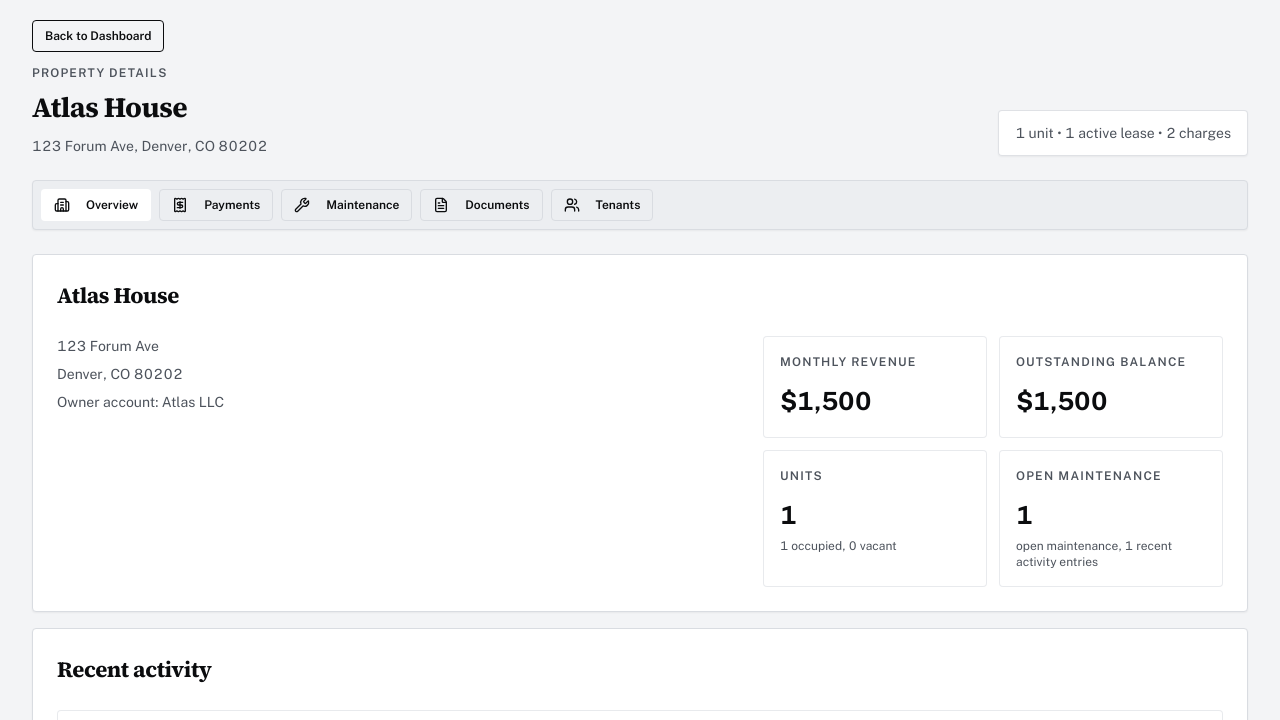
PropertyDetailView › renders overview details and switches tabs
Expected: the text "Property Details" is shown, [32, 66, 168, 80]
Expected: the heading "Atlas House" below "Property Details" is shown, [32, 88, 187, 126]
Click the button "Payments" at (216, 205), box [159, 189, 273, 221]
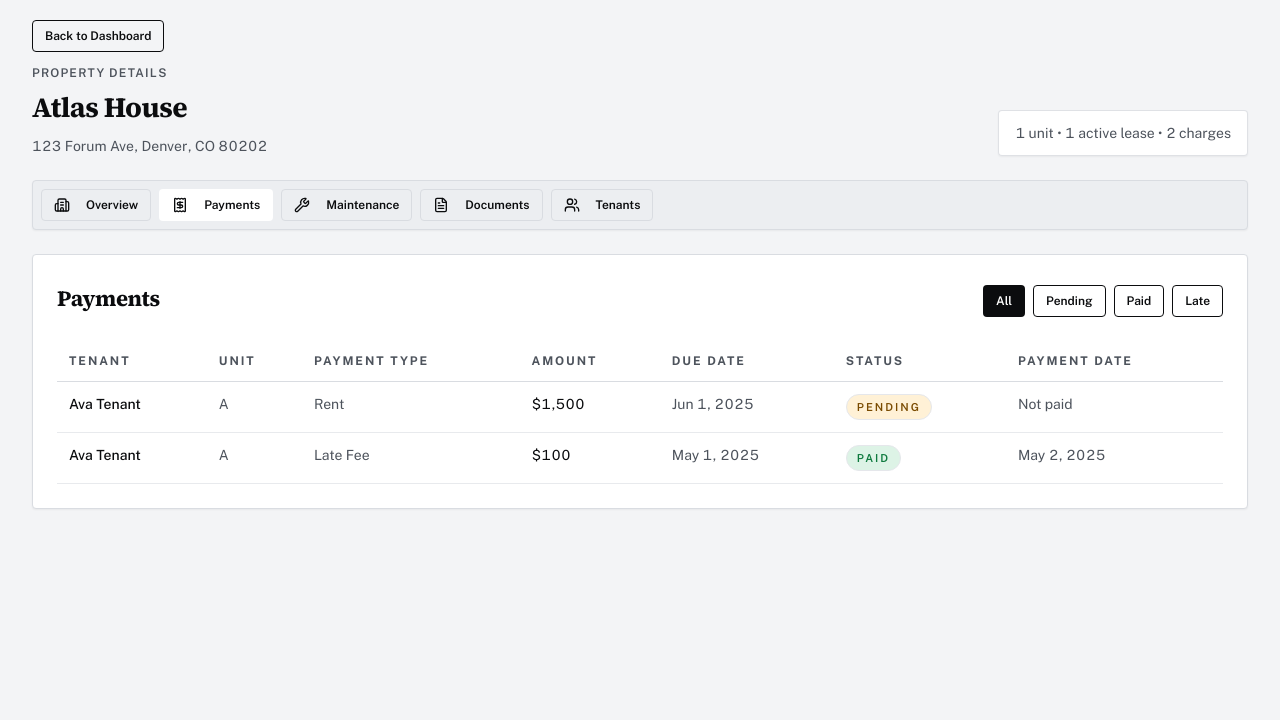
Expected: the text "Late Fee" is shown, [302, 432, 520, 484]
Click the button "Paid" at (1139, 301), box [1114, 285, 1164, 317]
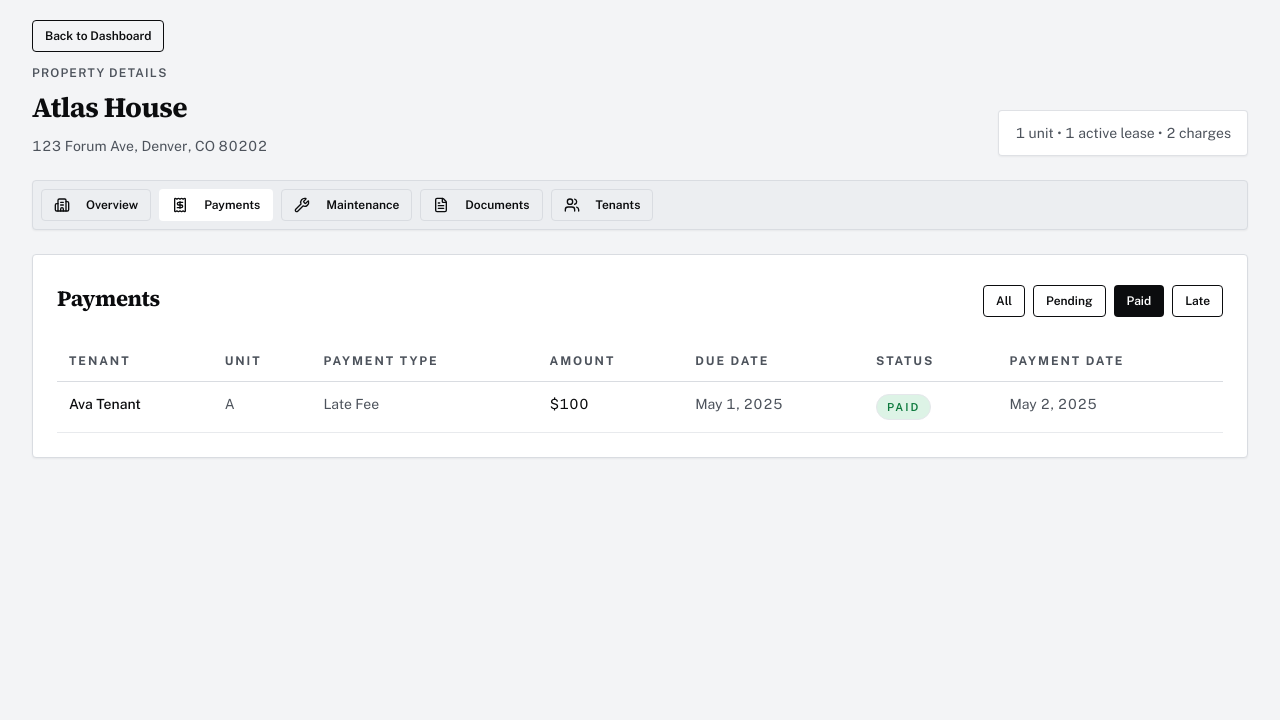
Expected: the text "Late Fee" is shown, [312, 382, 538, 432]
Expected: the text "Rent" is gone
Click the button "Documents" at (481, 205), box [420, 189, 543, 221]
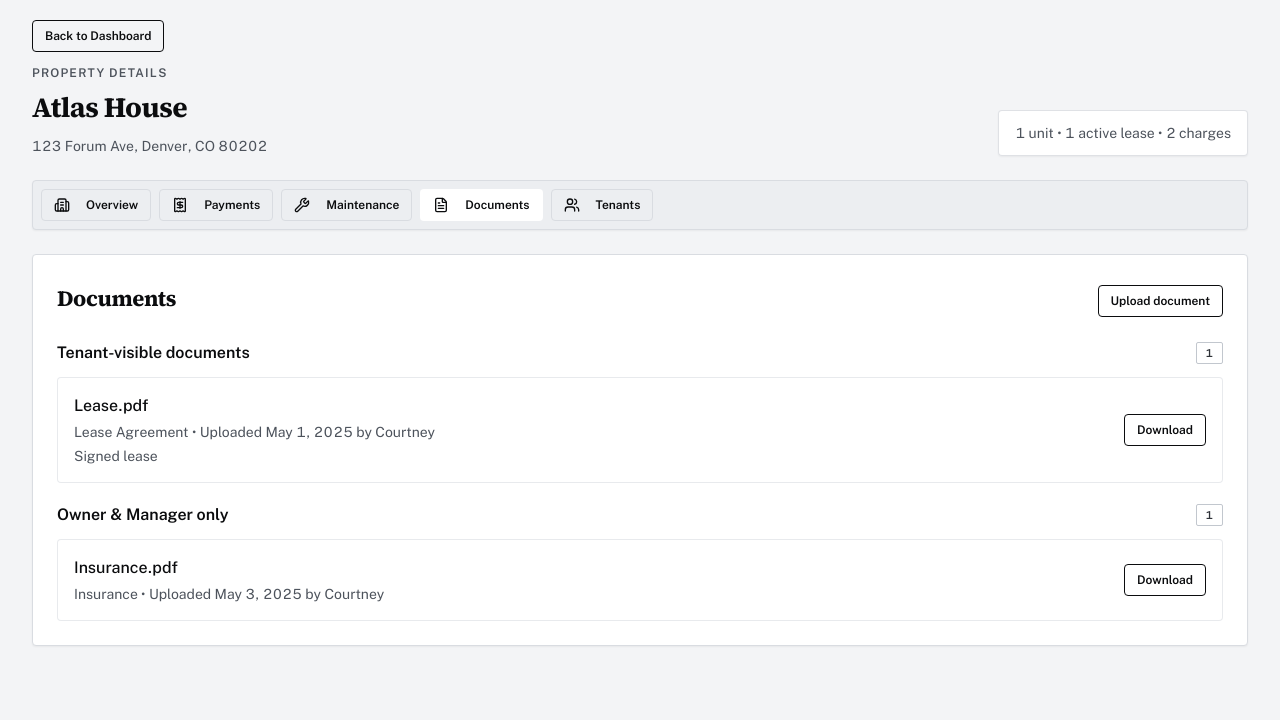
Expected: the text "Tenant-visible documents" is shown, [57, 341, 250, 365]
Expected: the text "Owner & Manager only" is shown, [57, 503, 229, 527]
